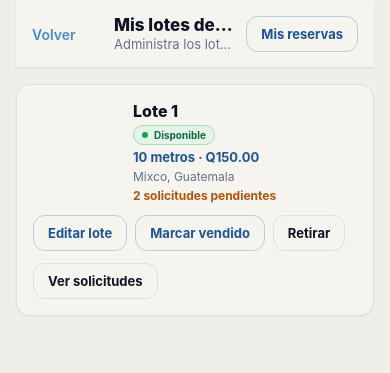
MyMaterialListingsScreen — solicitudes del vendedor › sin solicitudes muestra el vacio del lote
Expected: the text "Lote 1" is shown, [133, 101, 178, 121]
Click the text "Ver solicitudes" at (95, 281), box [48, 273, 143, 289]
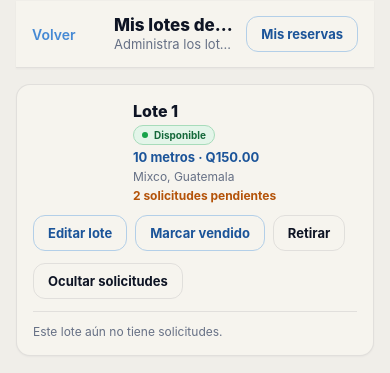
Now the text "Este lote aún no tiene solicitudes." is shown, box [33, 324, 222, 339]
